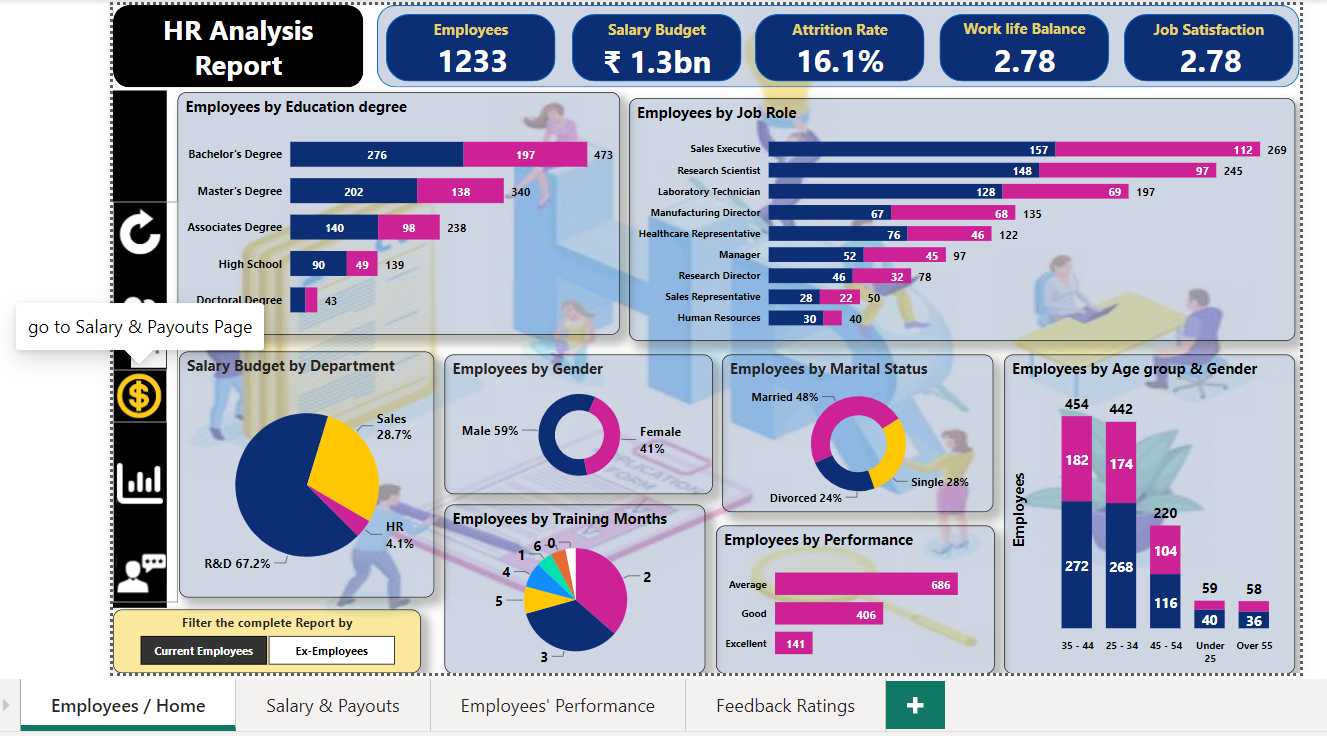

This screenshot's page, from the dashboard's own definition file:
{"tool":"powerbi","page":{"name":"Employees / Home","canvas":[1280,720],"ordinal":0},"visuals":[{"type":"shape","title":"Report Title grp","box":[0,0,270.2,89],"z":0},{"type":"shape","title":"backgroung","box":[284.8,0,995.1,89],"z":0,"group":"g3"},{"type":"shape","box":[294.5,9.4,182.8,72.8],"z":0,"group":"g2"},{"type":"shape","box":[494.7,9.4,182.8,72.8],"z":0,"group":"g1"},{"type":"shape","box":[693.3,9.4,182.8,72.8],"z":0,"group":"g4"},{"type":"shape","box":[1090.6,9.4,182.8,72.8],"z":0,"group":"g5"},{"type":"shape","box":[891.9,10.2,182.8,72.8],"z":0,"group":"g7"},{"type":"actionButton","box":[0,212,58.2,64.7],"z":0,"group":"g8"},{"type":"pieChart","title":"Salary Budget by Department","fields":{"Category":["Employees.Department"],"Y":["Measures Table.#10 Salary Budget"]},"box":[70.5,372.3,275.1,265.3],"z":0,"group":"g6"},{"type":"textbox","box":[891.9,8.6,182.8,37.2],"z":1000,"group":"g7"},{"type":"textbox","box":[294.5,9.4,182.8,37.2],"z":1000,"group":"g2"},{"type":"group","id":"g1","title":"Group 1","box":[494.7,9.4,182.8,72.8],"z":1000,"group":"g3"},{"type":"textbox","box":[494.7,9.4,182.8,37.2],"z":1000,"group":"g1"},{"type":"textbox","box":[693.3,9.4,182.8,37.2],"z":1000,"group":"g4"},{"type":"textbox","box":[1090.6,9.4,182.8,37.2],"z":1000,"group":"g5"},{"type":"shape","box":[0,92.2,58.2,558.2],"z":1000},{"type":"actionButton","box":[0,305.8,58.2,58.2],"z":1000,"group":"g8"},{"type":"columnChart","title":"Employees by Age group & Gender","fields":{"Category":["Employees.Age Group"],"Y":["Measures Table.#1 Total Employees"],"Series":["Employees.Gender"]},"box":[960.4,375.5,313.9,344.6],"z":1000,"group":"g6"},{"type":"group","id":"g2","title":"Group 2","box":[294.5,9.4,184.4,72.8],"z":2000,"group":"g3"},{"type":"card","title":"card","fields":{"Values":["Measures Table.#1 Total Employees"]},"box":[296.1,35.3,182.8,46.9],"z":2000,"group":"g2"},{"type":"card","title":"card","fields":{"Values":["Measures Table.#5 Attrition Rate"]},"box":[693.3,35.3,182.8,46.9],"z":2000,"group":"g4"},{"type":"card","title":"card","fields":{"Values":["Measures Table.#7 Rating Job Satisfaction"]},"box":[1092.2,35.3,182.8,46.9],"z":2000,"group":"g5"},{"type":"card","title":"card","fields":{"Values":["Measures Table.#9 Rating Work life Balance"]},"box":[891.9,36.1,182.8,46.9],"z":2000,"group":"g7"},{"type":"card","title":"card","fields":{"Values":["Measures Table.#10 Salary Budget"]},"box":[494.7,38.5,182.8,43.7],"z":2000,"group":"g1"},{"type":"barChart","title":"Employees by Education degree","fields":{"Category":["Employees.Education"],"Y":["Measures Table.#1 Total Employees"],"Series":["Employees.Gender"]},"box":[69.4,93.1,477.3,262.1],"z":2000,"group":"g6"},{"type":"actionButton","box":[0,393.2,58.2,56.6],"z":2000,"group":"g8"},{"type":"slicer","title":"Filter the complete Report by","fields":{"Values":["Employees.attrition label"]},"box":[0,651.7,331.7,68.3],"z":2000},{"type":"group","id":"g3","title":"KPIs #group","box":[284.8,0,995.1,89],"z":3000},{"type":"group","id":"g4","title":"Group 3","box":[693.3,9.4,182.8,72.8],"z":3000,"group":"g3"},{"type":"donutChart","title":"Employees by Gender ","fields":{"Category":["Employees.Gender"],"Y":["Measures Table.#1 Total Employees"]},"box":[356.9,375.5,289.6,150.5],"z":3000,"group":"g6"},{"type":"actionButton","box":[0,479,58.2,74.4],"z":3000,"group":"g8"},{"type":"group","id":"g5","title":"Group 4","box":[1090.6,9.4,184.4,72.8],"z":4000,"group":"g3"},{"type":"group","id":"g6","title":"All charts #group","box":[69.4,93.1,1204.9,627],"z":4000},{"type":"donutChart","title":"Employees by Marital Status","fields":{"Y":["Measures Table.#1 Total Employees"],"Category":["Salary & Payouts.Marital Status"]},"box":[657.3,375.5,292.9,169.9],"z":4000,"group":"g6"},{"type":"actionButton","box":[0,582.5,69.6,61.5],"z":4000,"group":"g8"},{"type":"group","id":"g7","title":"Group 5","box":[891.9,8.6,182.8,74.4],"z":5000,"group":"g3"},{"type":"group","id":"g8","title":"Group 6","box":[0,212,69.6,432],"z":5000},{"type":"pieChart","title":"Employees by Training Months","fields":{"Category":["Salary & Payouts.Training Times Last Year (Months)"],"Y":["Measures Table.#1 Total Employees"]},"box":[356.9,537.3,281.5,182.8],"z":5000,"group":"g6"},{"type":"barChart","title":"Employees by Job Role","fields":{"Y":["Measures Table.#1 Total Employees"],"Series":["Employees.Gender"],"Category":["Employees.Job Role"]},"box":[555.9,98.8,718.4,262.1],"z":6000,"group":"g6"},{"type":"barChart","fields":{"Category":["Salary & Payouts.Performance"],"Y":["Measures Table.#1 Total Employees"]},"box":[649.7,560,300.9,160.2],"z":7000,"group":"g6"}]}

Visuals, with their boxes on the page's 1280x720 design canvas (x1, y1, x2, y2). These are canvas units, not pixel positions in the 1327x736 screenshot, which may show the page scaled, cropped or inside an application window:
"Report Title grp" shape: x1=0 y1=0 x2=270 y2=89
"backgroung" shape: x1=285 y1=0 x2=1280 y2=89
shape: x1=294 y1=9 x2=477 y2=82
shape: x1=495 y1=9 x2=678 y2=82
shape: x1=693 y1=9 x2=876 y2=82
shape: x1=1091 y1=9 x2=1273 y2=82
shape: x1=892 y1=10 x2=1075 y2=83
actionButton: x1=0 y1=212 x2=58 y2=277
"Salary Budget by Department" pieChart: x1=70 y1=372 x2=346 y2=638
textbox: x1=892 y1=9 x2=1075 y2=46
textbox: x1=294 y1=9 x2=477 y2=47
"Group 1" group: x1=495 y1=9 x2=678 y2=82
textbox: x1=495 y1=9 x2=678 y2=47
textbox: x1=693 y1=9 x2=876 y2=47
textbox: x1=1091 y1=9 x2=1273 y2=47
shape: x1=0 y1=92 x2=58 y2=650
actionButton: x1=0 y1=306 x2=58 y2=364
"Employees by Age group & Gender" columnChart: x1=960 y1=376 x2=1274 y2=720
"Group 2" group: x1=294 y1=9 x2=479 y2=82
"card" card: x1=296 y1=35 x2=479 y2=82
"card" card: x1=693 y1=35 x2=876 y2=82
"card" card: x1=1092 y1=35 x2=1275 y2=82
"card" card: x1=892 y1=36 x2=1075 y2=83
"card" card: x1=495 y1=38 x2=678 y2=82
"Employees by Education degree" barChart: x1=69 y1=93 x2=547 y2=355
actionButton: x1=0 y1=393 x2=58 y2=450
"Filter the complete Report by" slicer: x1=0 y1=652 x2=332 y2=720
"KPIs #group" group: x1=285 y1=0 x2=1280 y2=89
"Group 3" group: x1=693 y1=9 x2=876 y2=82
"Employees by Gender " donutChart: x1=357 y1=376 x2=646 y2=526
actionButton: x1=0 y1=479 x2=58 y2=553
"Group 4" group: x1=1091 y1=9 x2=1275 y2=82
"All charts #group" group: x1=69 y1=93 x2=1274 y2=720
"Employees by Marital Status" donutChart: x1=657 y1=376 x2=950 y2=545
actionButton: x1=0 y1=582 x2=70 y2=644
"Group 5" group: x1=892 y1=9 x2=1075 y2=83
"Group 6" group: x1=0 y1=212 x2=70 y2=644
"Employees by Training Months" pieChart: x1=357 y1=537 x2=638 y2=720
"Employees by Job Role" barChart: x1=556 y1=99 x2=1274 y2=361
barChart - Salary & Payouts.Performance x Measures Table.#1 Total Employees: x1=650 y1=560 x2=951 y2=720
